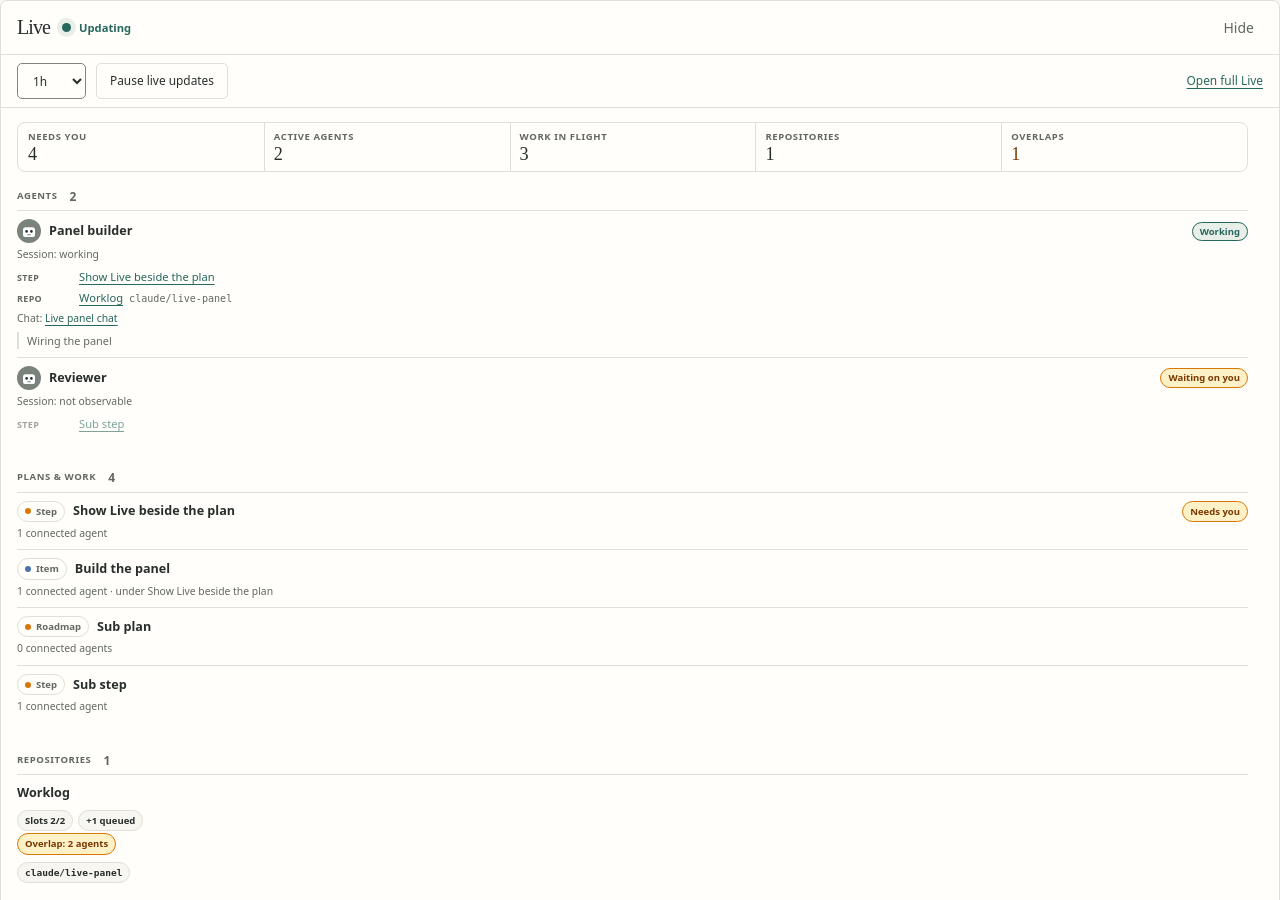
reads Live for its roadmap over the last hour, every 15 seconds, until paused
Select "6h" in the dropdown named "Activity window": point(52, 81) top-left (17, 63), bottom-right (86, 99)
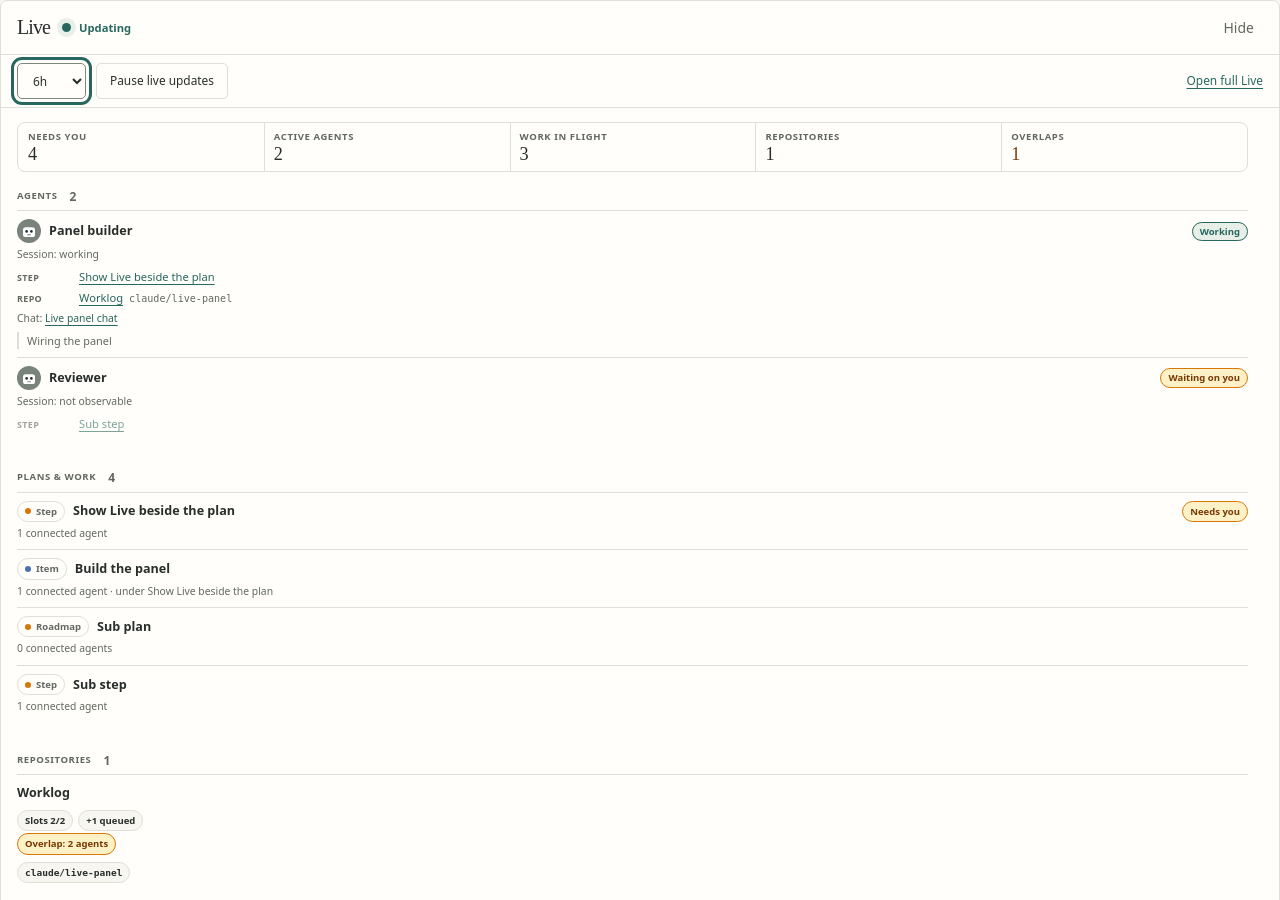
Click the button "Pause live updates": point(162, 81) top-left (96, 63), bottom-right (228, 99)
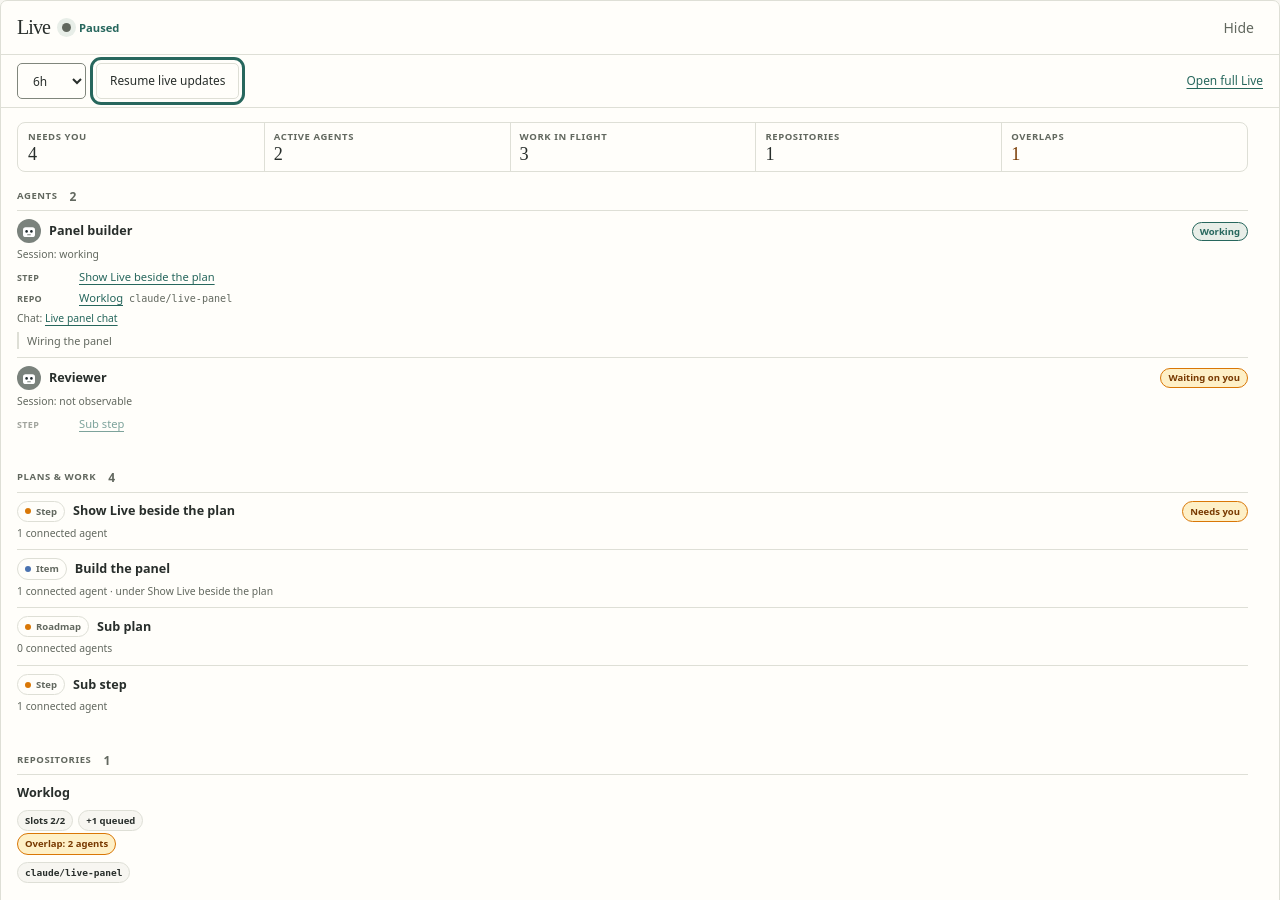
Now the text "Paused" is shown, box top-left (62, 18), bottom-right (120, 36)
